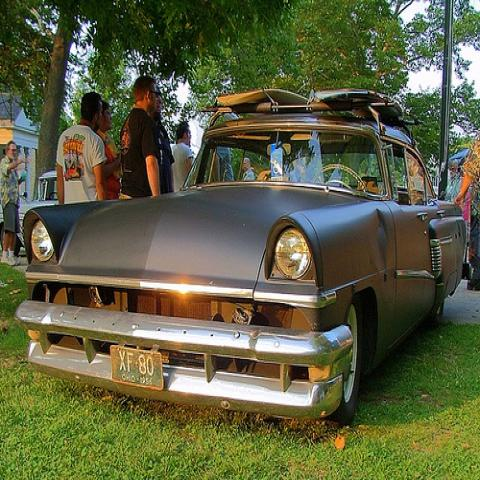car: (15, 86, 470, 423), (11, 172, 59, 258)
